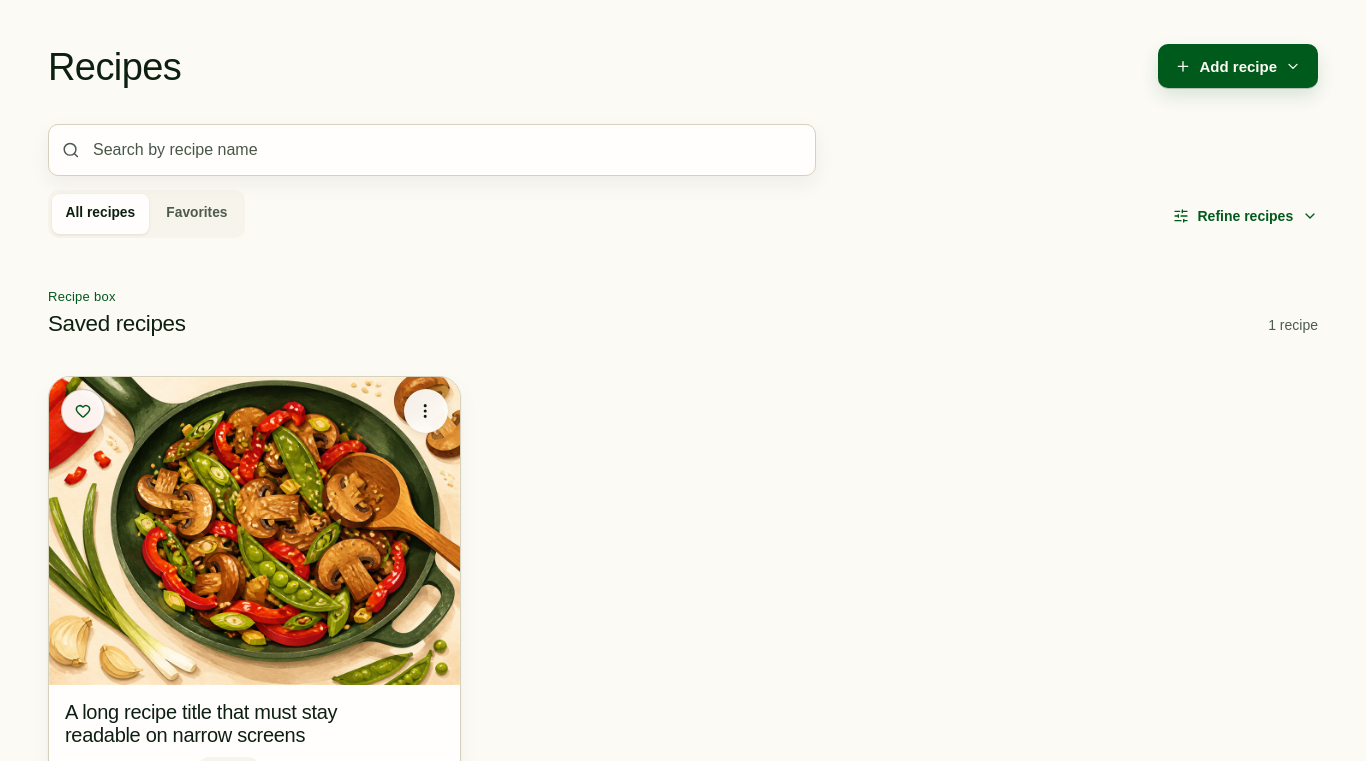
recipe organization UI › shows focused removable filters and keeps long recipe names in the library
Check: the heading "A long recipe title that must stay readable on narrow screens" is shown, box [65,702,337,746]
Click the heading "Refine recipes" at (1245, 216), box [1173,208,1318,224]
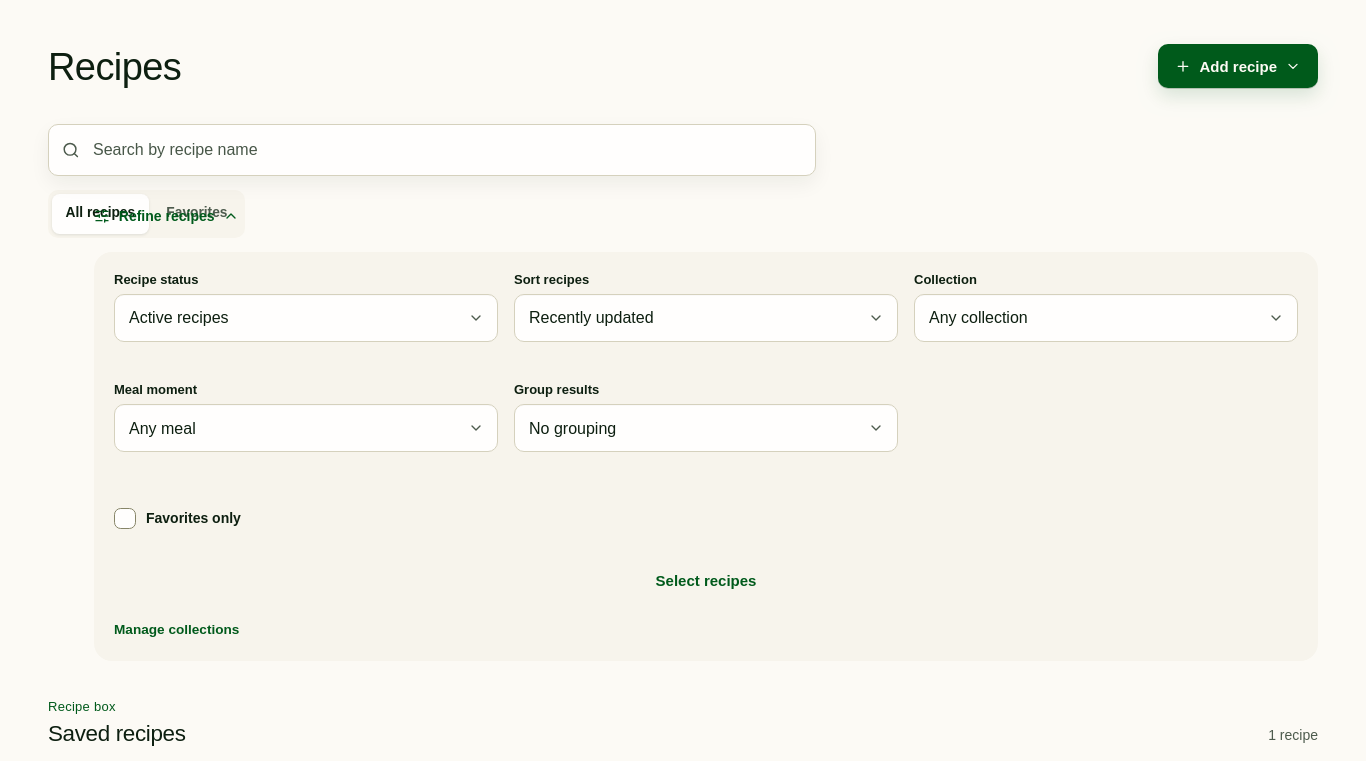
Select "Weeknight favourites for a very full household" in the dropdown labelled "Collection" at (1106, 318), box [914,294,1298,342]
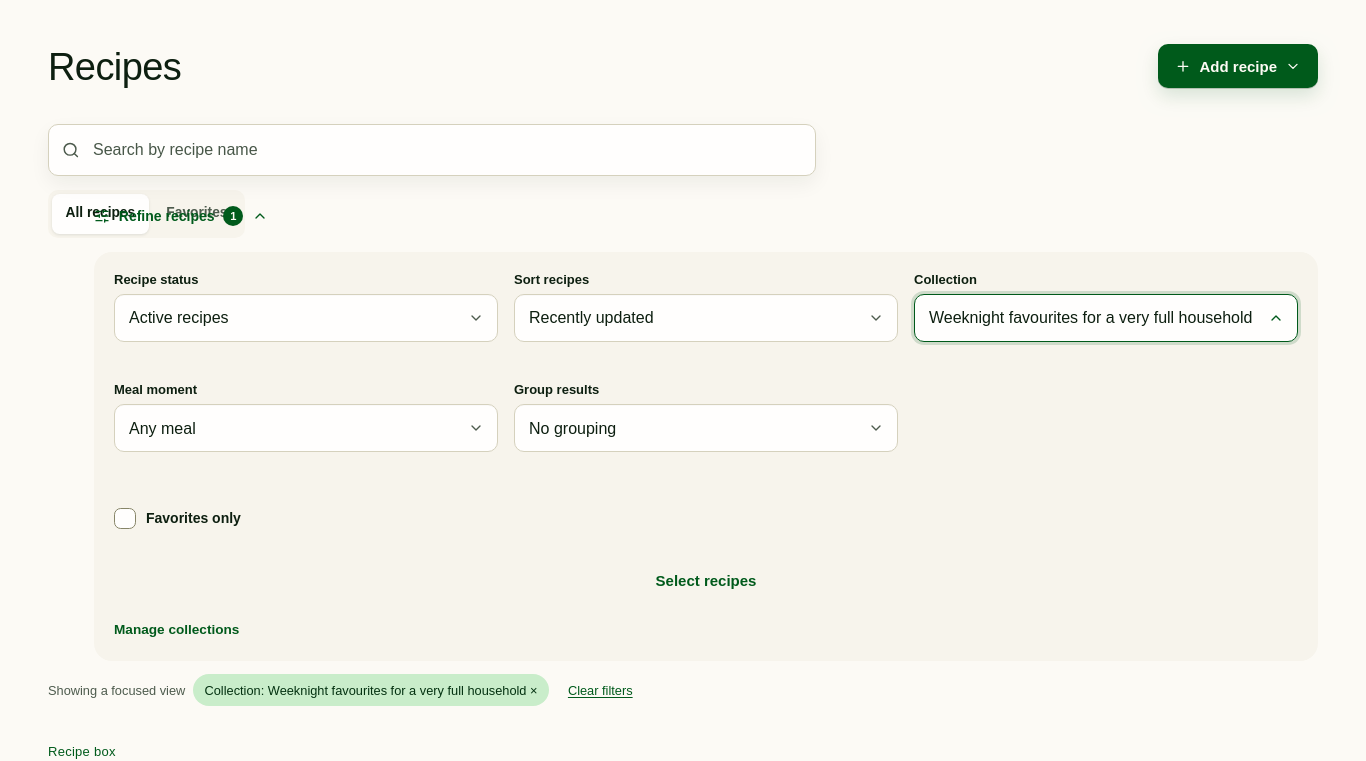
Select "Dinner" in the dropdown labelled "Meal moment" at (306, 428), box [114,404,498,452]
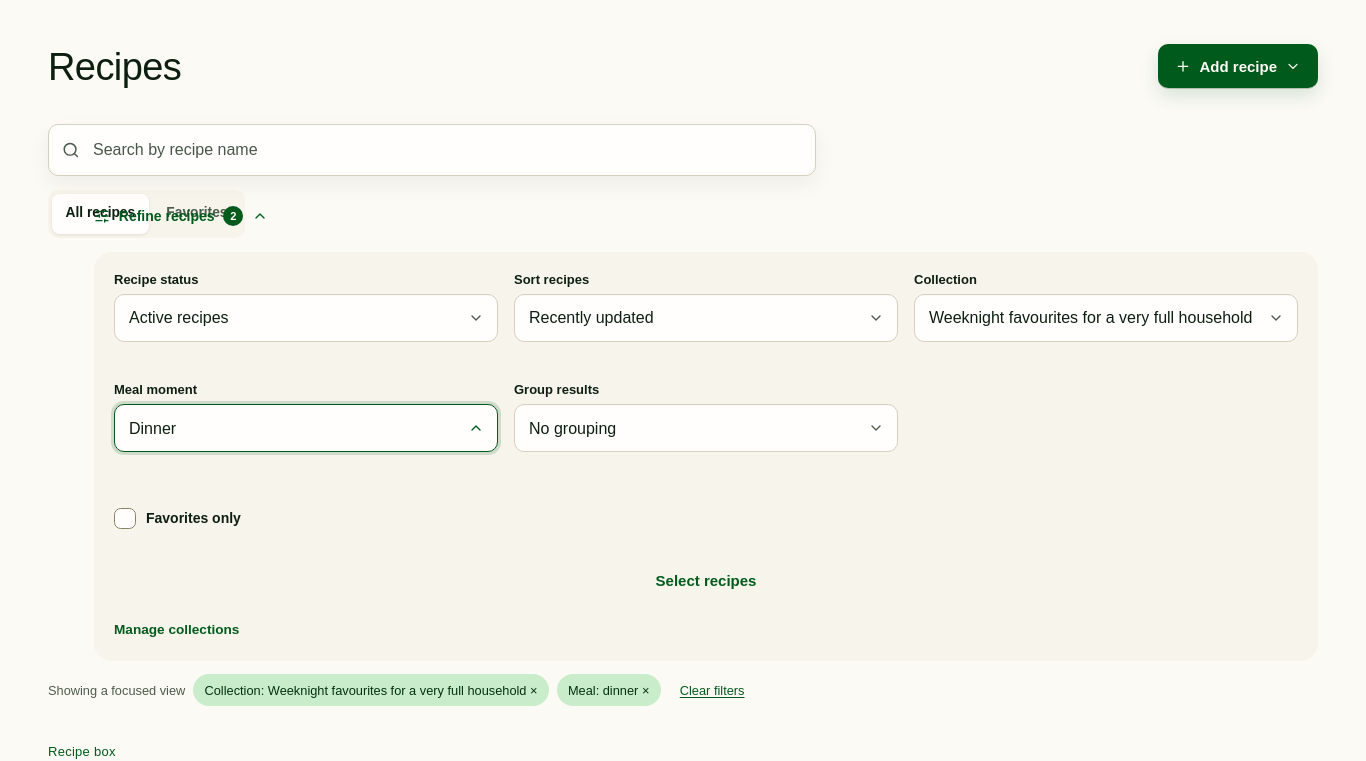
Click the checkbox named "Favorites only" at (125, 518), box [114,508,136,529]
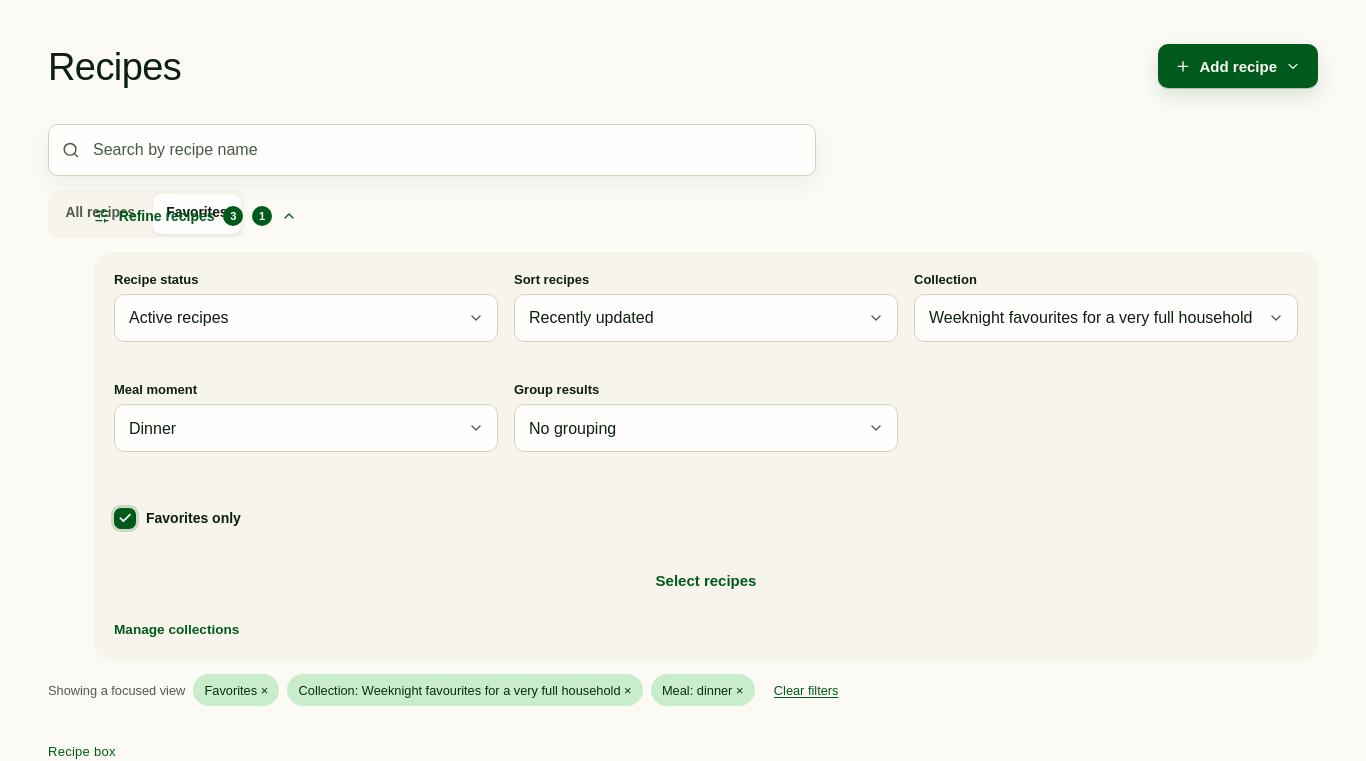
Check: the element named "Active recipe filters" shows "Collection:", box [287,674,643,706]
Check: the element named "Active recipe filters" shows "Meal: dinner"
Check: the element named "Active recipe filters" shows "Favorites", box [193,674,279,706]
Click the button "Meal: dinner ×" at (703, 690), box [651,674,755,706]
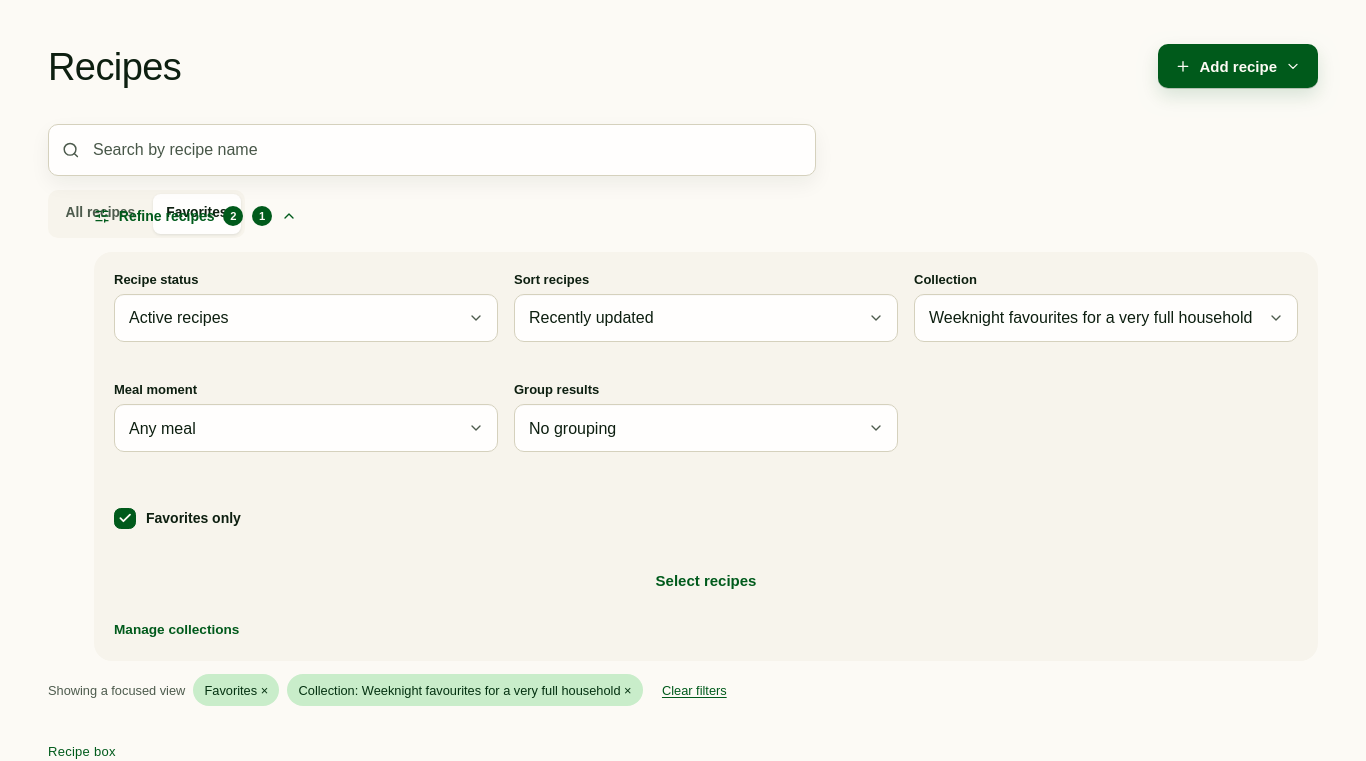
Check: the element named "Active recipe filters" shows "Favorites", box [193,674,279,706]
Check: the button "Meal: dinner" is gone
